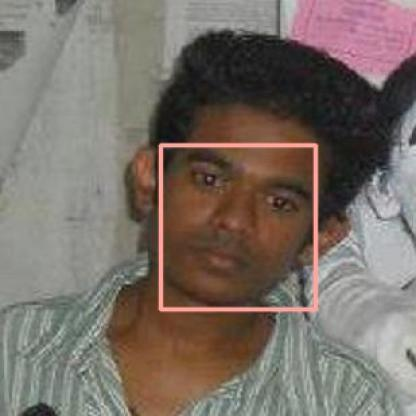without_mask: (160, 145, 315, 309)
